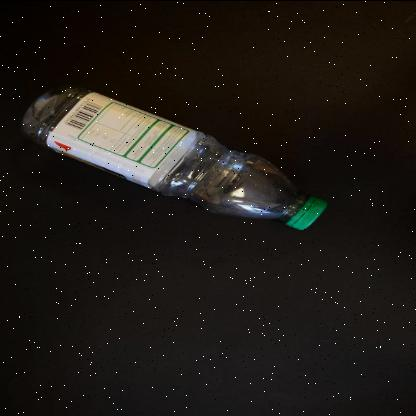Plastic Bottle: (23, 86, 327, 228)
